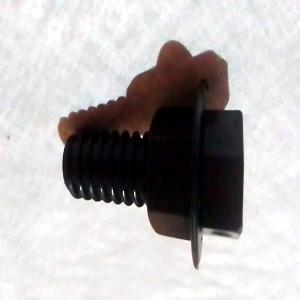parafuso: (62, 78, 244, 268)
